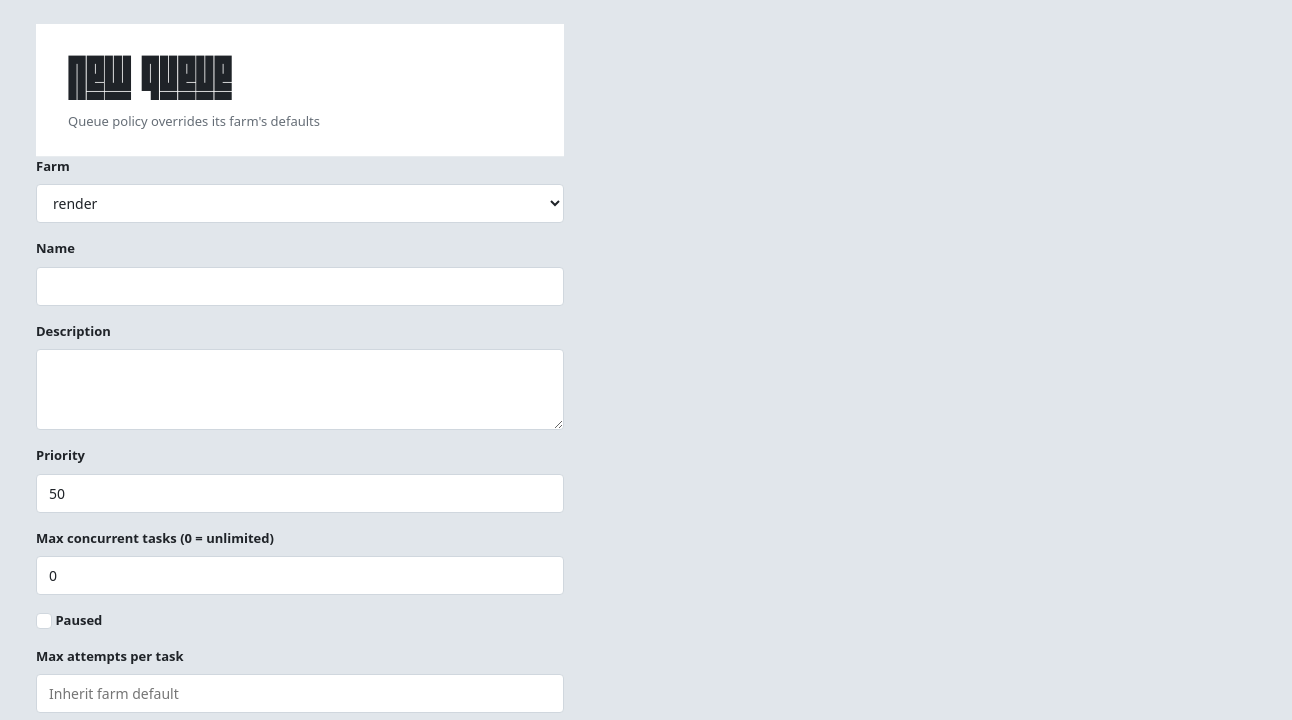
QueueForm (create) › POSTs a queue with the selected farm and entered name
Type "lighting" into the field labelled "Name". click: (300, 286)
box: x1=36 y1=266 x2=564 y2=306
(page scrolled)
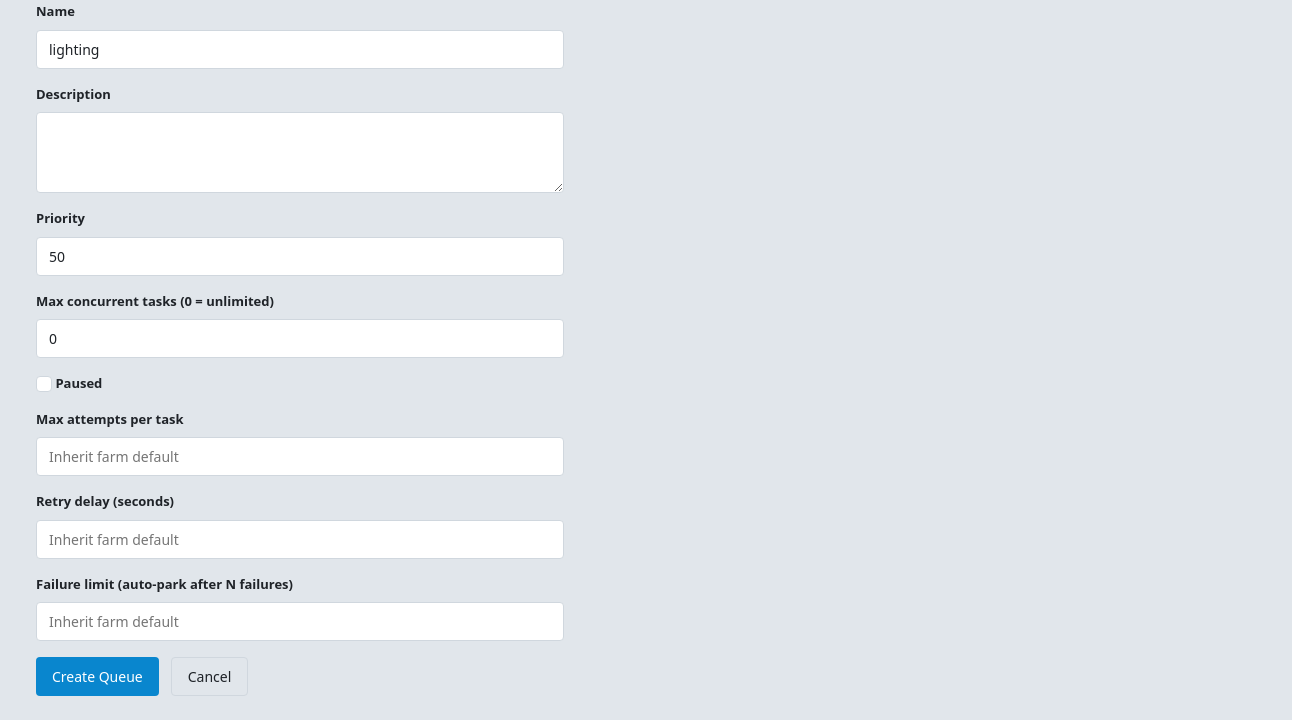
Click the button "Create Queue". click: (97, 676)
box: x1=36 y1=657 x2=159 y2=696
(page scrolled)
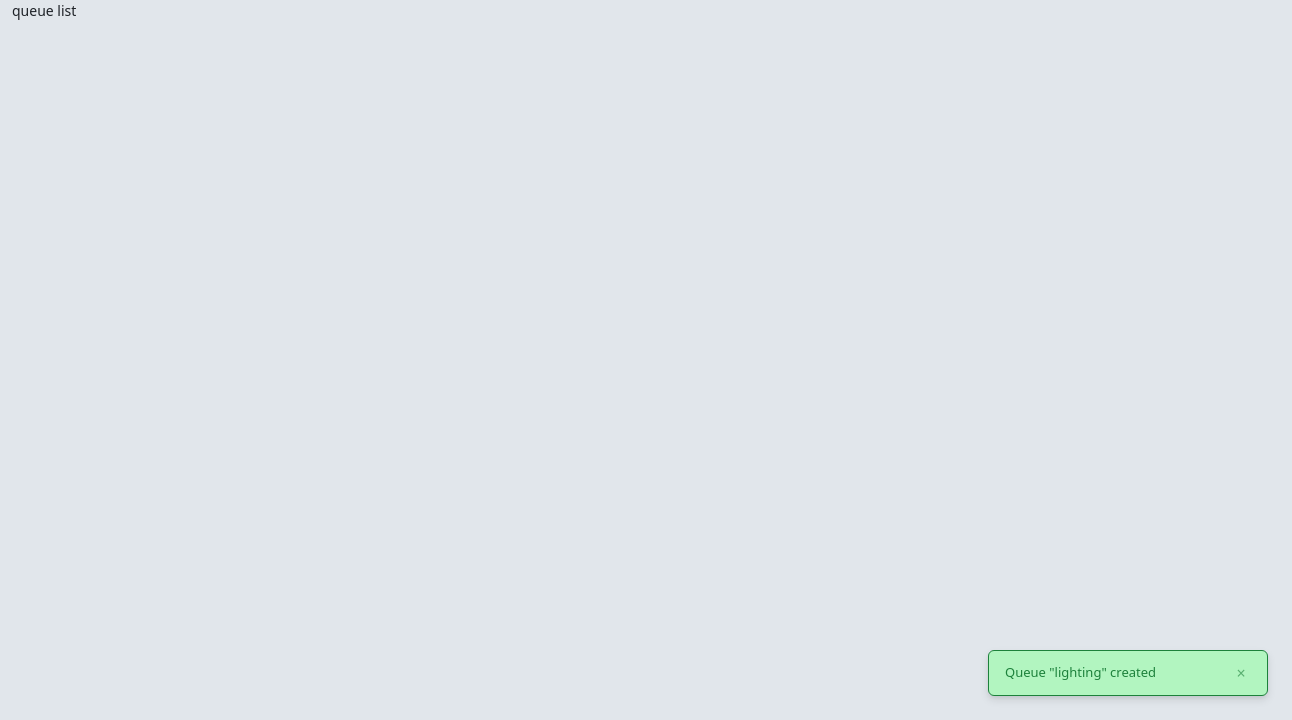
Now the text "queue list" is shown, box x1=12 y1=1 x2=76 y2=20
